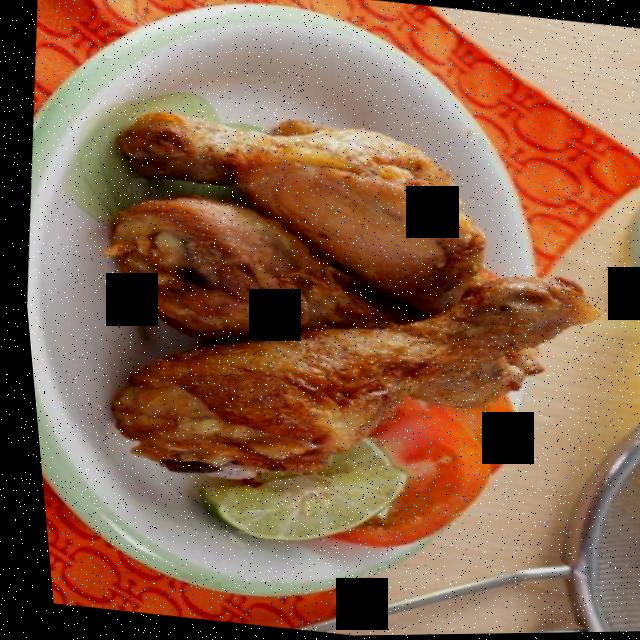Frango: (92, 222, 603, 520), (80, 93, 557, 385), (95, 185, 518, 379)
